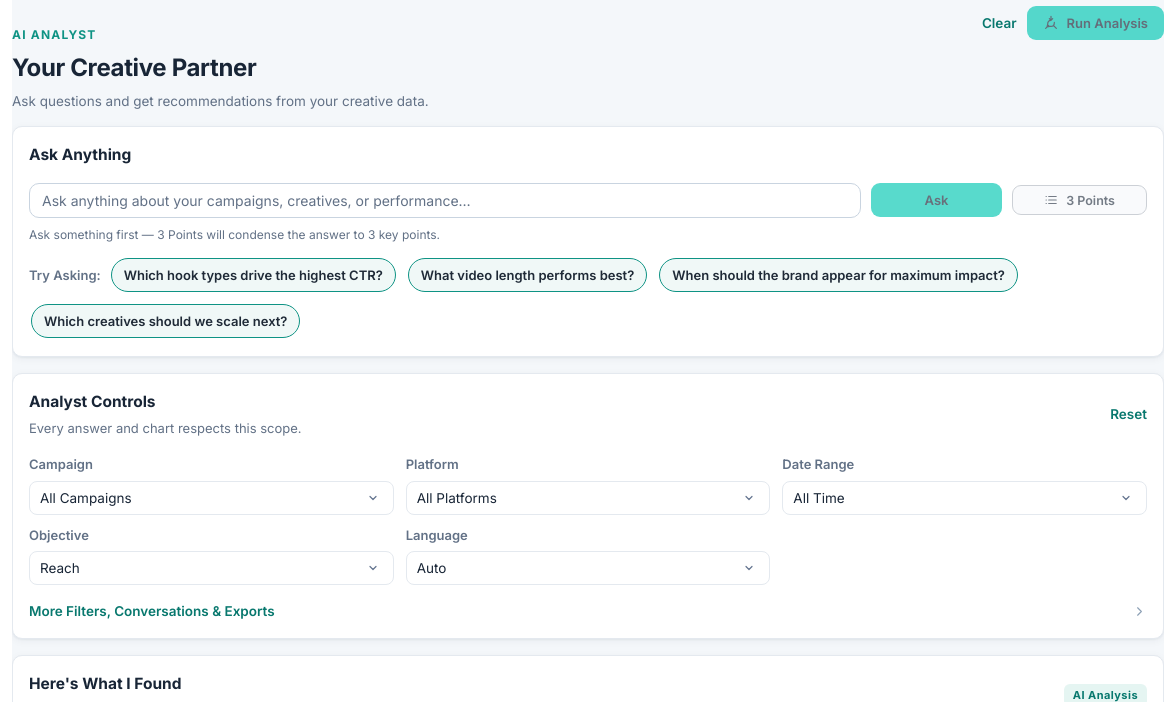
Test: AnalystPage › surfaces 3 Points failures instead of hanging
The width and height of the screenshot is (1176, 702).
Replace the text in the field named "Ask Foap Analyst" with "condense this thread": (445, 200) [29,183,861,218]
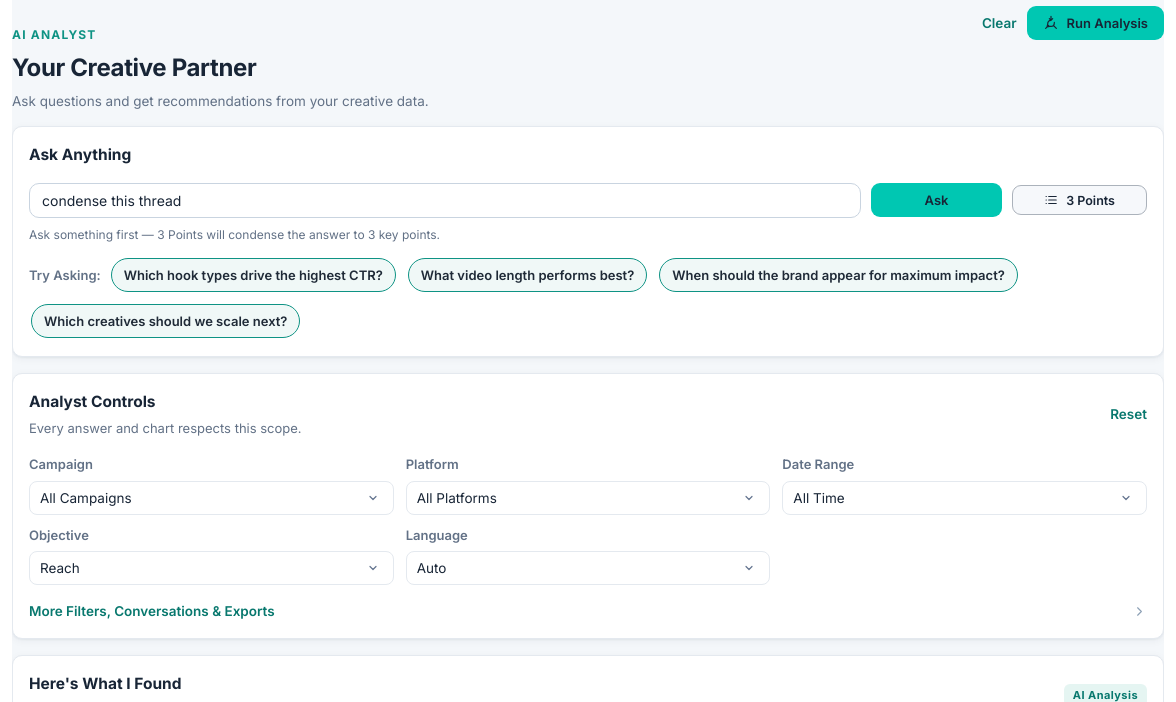
Click the button "3 Points": (1080, 200) [1012,185,1147,215]
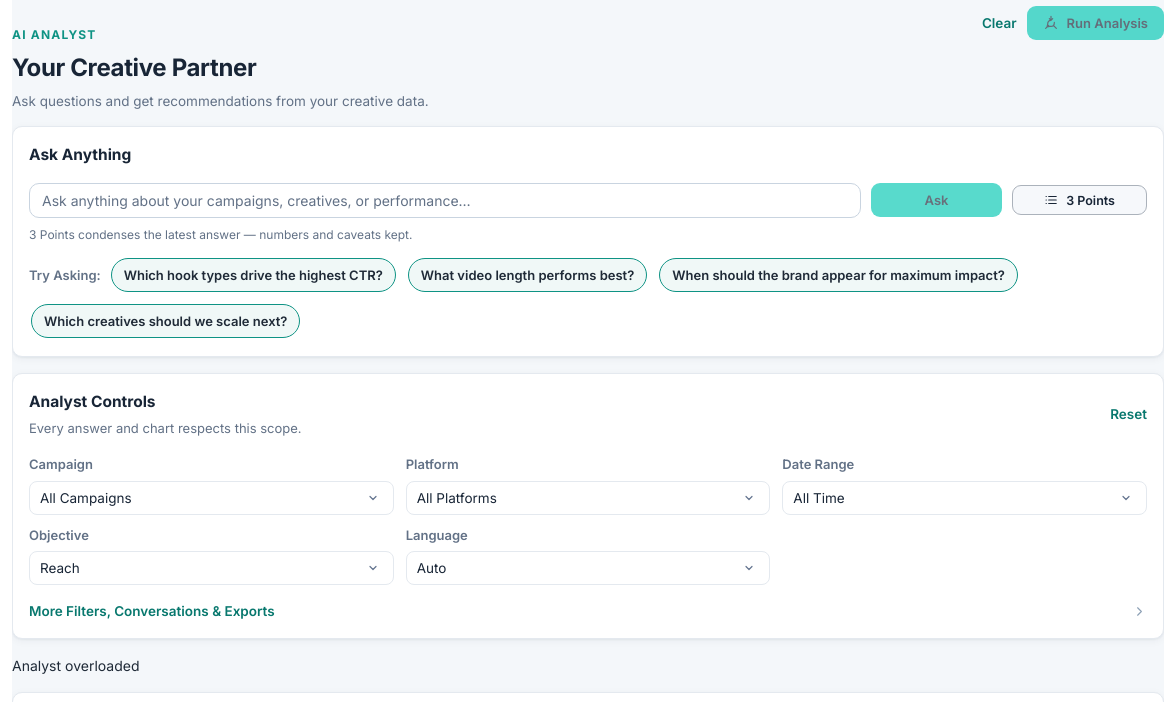
Now the button "3 Points" is enabled, box [1012,185,1147,215]
Now the message reads "Analyst overloaded", box [12,657,140,674]
